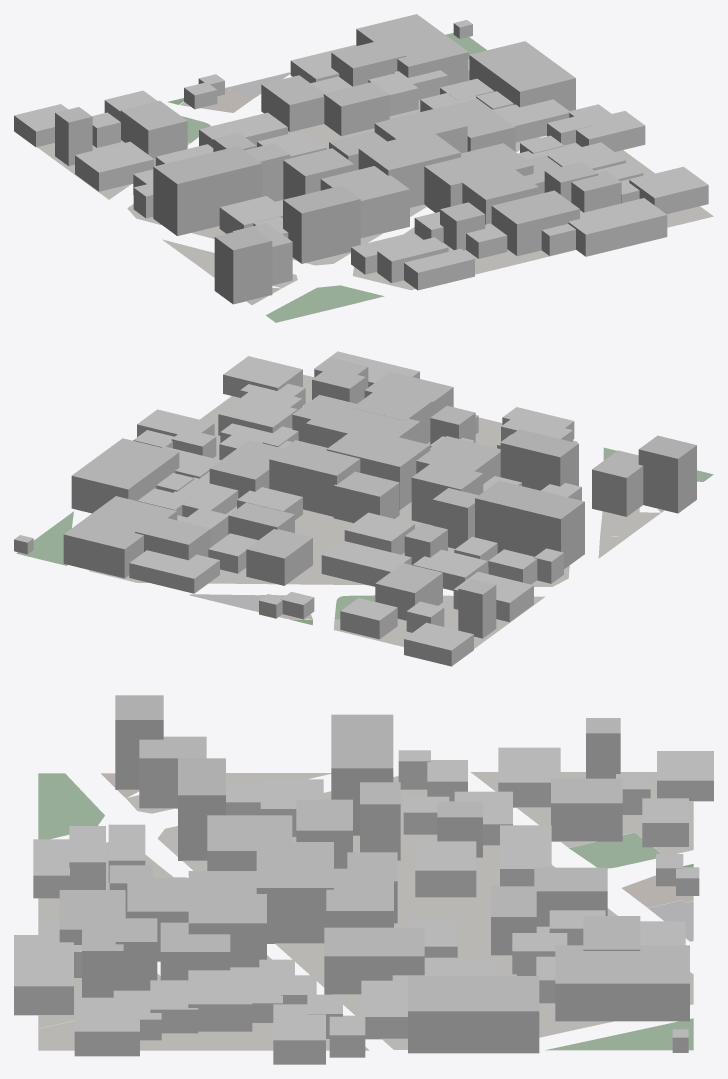
File: 108_106_mid.glb
3 renders of one model, top to bottom at view 1: azimuth 30°, elevation 25°; view 2: azimuth 150°, elevation 25°; view 3: azimuth 270°, elevation 25°, orthographic. The views are drawn at different scales.
Size of the model in its own units: 540 by 59.4 by 534.
